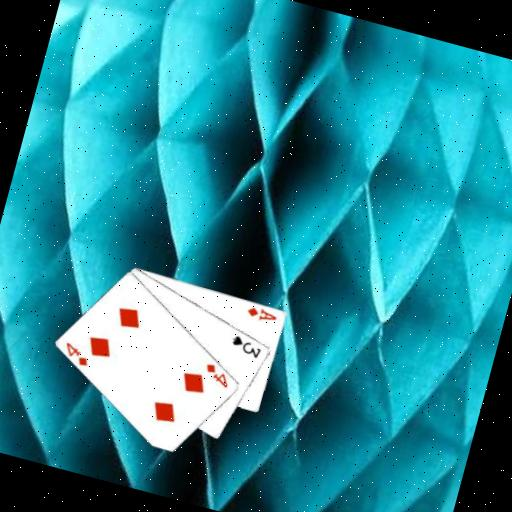3S: (226, 331, 265, 361)
4D: (58, 338, 94, 369), (199, 359, 234, 390)
AD: (243, 300, 280, 325)
